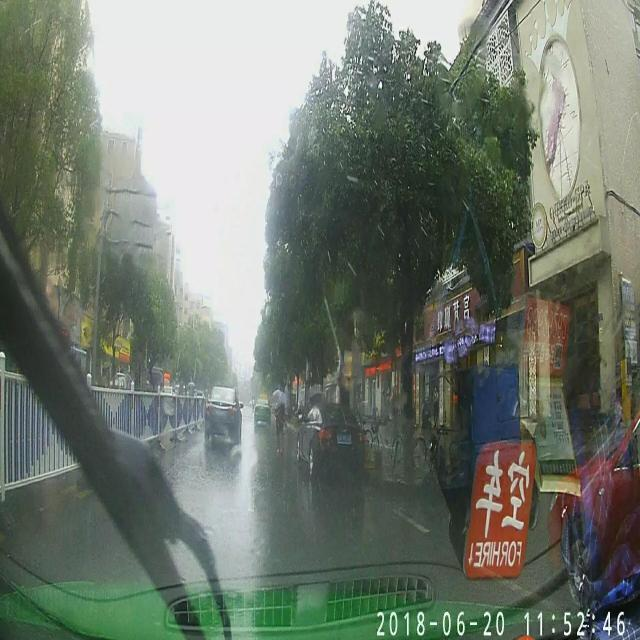car: (297, 401, 365, 477), (204, 386, 243, 444), (253, 398, 272, 427)
